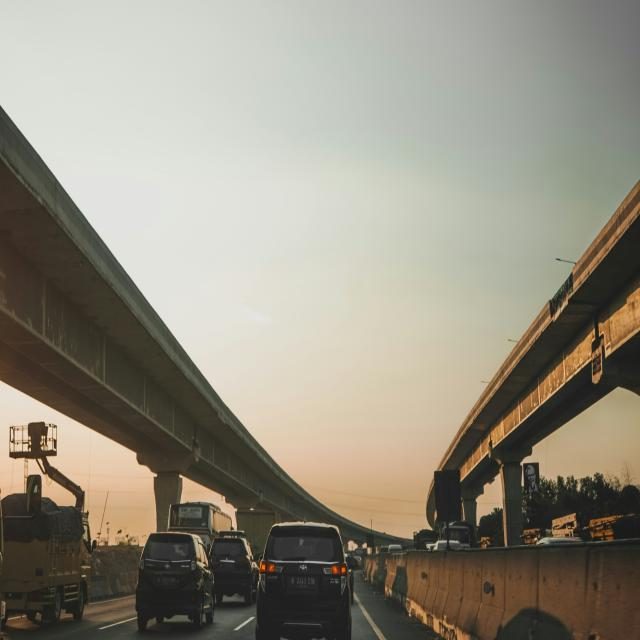16-Wheelers: (1, 421, 96, 628)
Bus: (167, 501, 234, 555)
Car: (256, 522, 356, 640), (135, 532, 215, 631), (208, 532, 259, 606)
